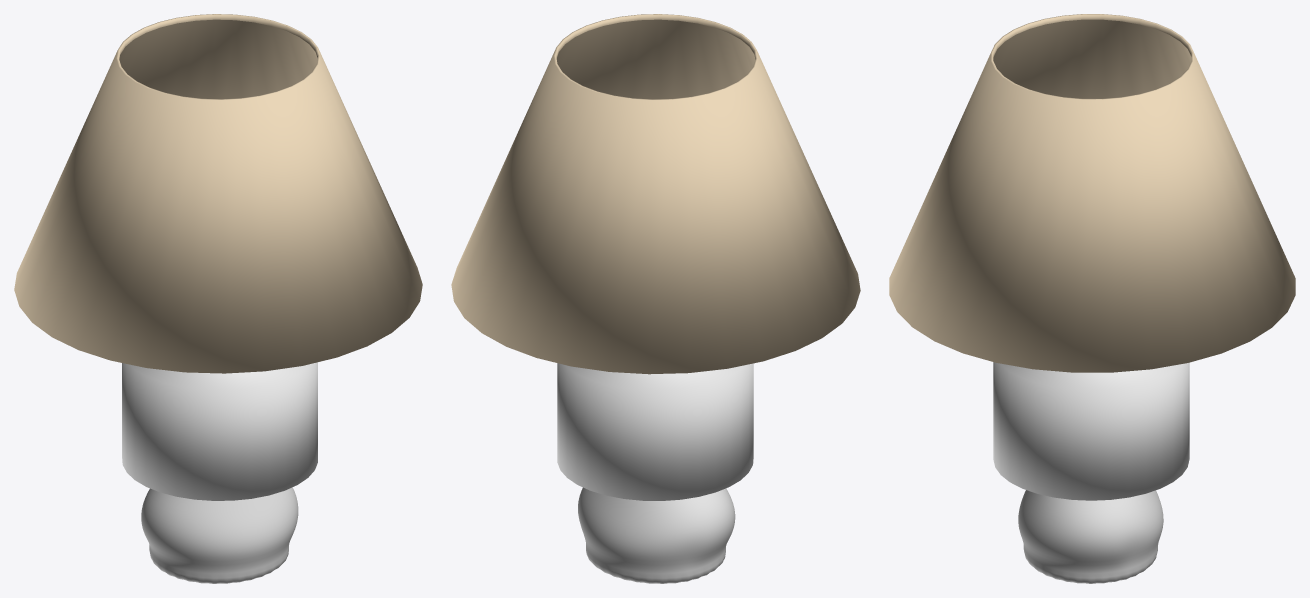
The model's file is lampa1.fbx.
3 views of the same model, side by side, from view 1: azimuth 30°, elevation 25°; view 2: azimuth 150°, elevation 25°; view 3: azimuth 270°, elevation 25° (orthographic).
Parts seen in each view (by area): view 1: Lampshade, Cylinder.004, Cylinder.005; view 2: Lampshade, Cylinder.004, Cylinder.005; view 3: Lampshade, Cylinder.004, Cylinder.005.
Boxes of the visible parts, left/top/right/bottom form: Lampshade: left=14, top=14, right=422, bottom=373; Cylinder.004: left=122, top=362, right=317, bottom=500; Cylinder.005: left=141, top=487, right=298, bottom=583; Lampshade: left=451, top=14, right=860, bottom=374; Cylinder.004: left=557, top=363, right=753, bottom=500; Cylinder.005: left=578, top=487, right=735, bottom=583; Lampshade: left=889, top=14, right=1295, bottom=372; Cylinder.004: left=993, top=362, right=1189, bottom=500; Cylinder.005: left=1018, top=490, right=1163, bottom=583.
Bounding box in the file's own units: 48.06 × 65.87 × 48.06.
